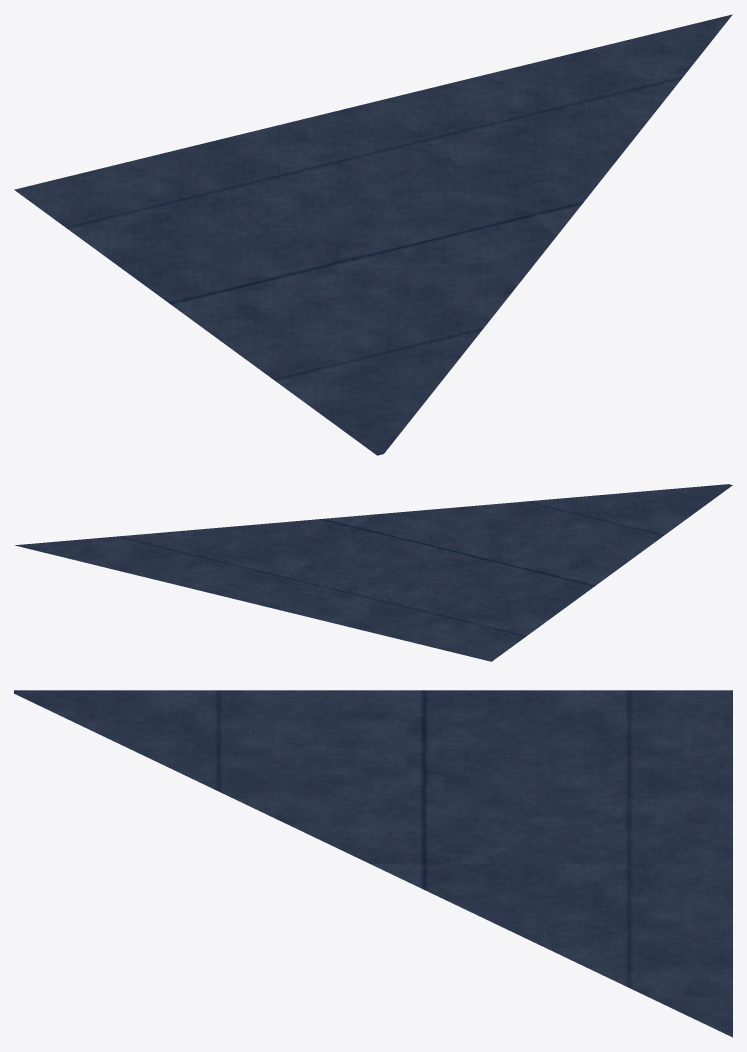
File: lot_asphalt_taper.glb
3 renders of one model, top to bottom at view 1: azimuth 30°, elevation 25°; view 2: azimuth 150°, elevation 25°; view 3: azimuth 270°, elevation 25°, orthographic. The views are drawn at different scales.
Visible parts, largest first — view 1: lot_asphalt_taper; view 2: lot_asphalt_taper; view 3: lot_asphalt_taper.
Part boxes in pixels (x1,y1,x2,y2): lot_asphalt_taper: (14, 14, 732, 455); lot_asphalt_taper: (15, 484, 732, 661); lot_asphalt_taper: (14, 690, 732, 1037).
Size of the model in its own units: 16 by 0 by 14.
1 material, 1 textured.
